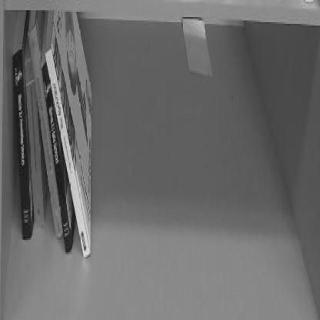book-spine: (44, 47, 91, 256), (27, 25, 63, 238), (40, 59, 73, 252), (11, 48, 33, 239), (24, 59, 45, 226)
